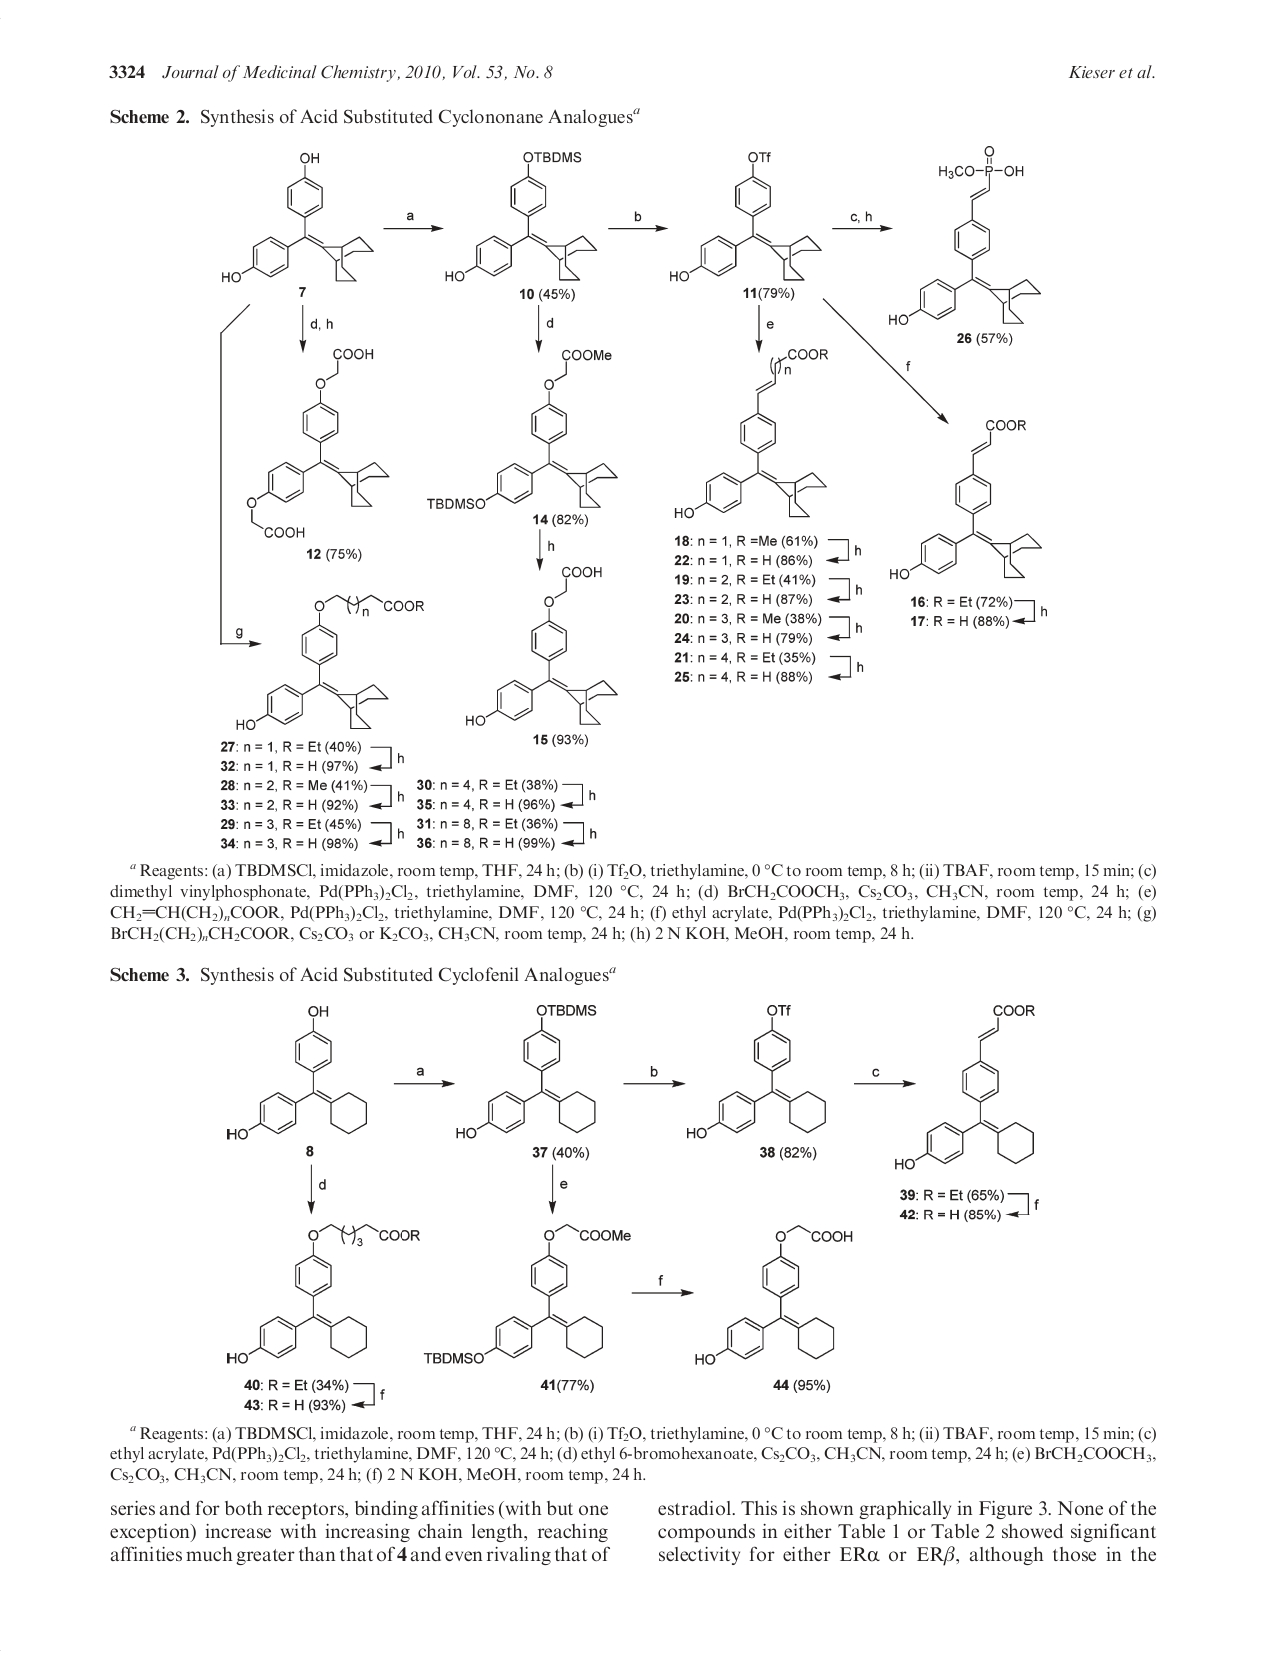exist_molecular: (426, 340, 620, 512), (418, 1221, 637, 1372), (225, 588, 430, 735), (880, 142, 1043, 328), (668, 340, 832, 523), (219, 1220, 418, 1368), (886, 991, 1043, 1176), (457, 561, 620, 739), (886, 406, 1043, 584), (243, 342, 383, 539), (692, 1220, 855, 1370), (213, 149, 382, 293), (439, 142, 604, 286), (681, 997, 834, 1146), (664, 146, 824, 286), (451, 997, 606, 1140), (222, 1004, 371, 1146)
